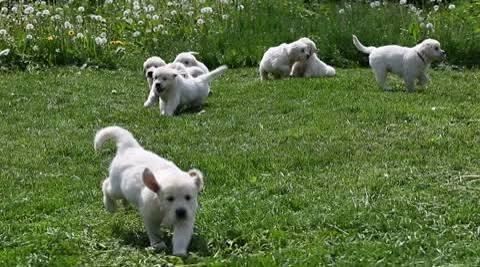puppy-dog: (94, 125, 204, 257), (352, 34, 446, 94), (148, 64, 227, 117), (258, 37, 319, 82), (142, 56, 188, 108), (172, 51, 210, 82), (299, 53, 338, 78)
